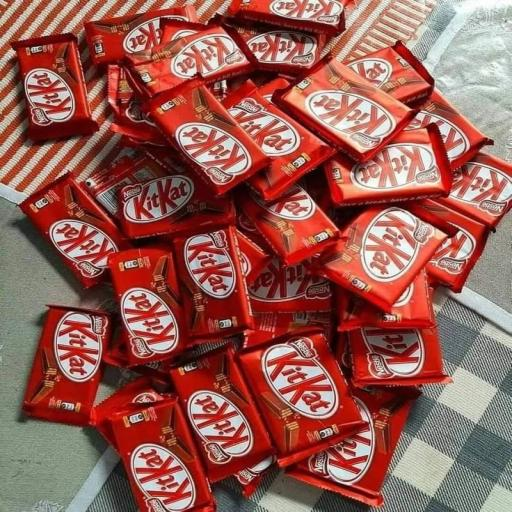kitkat: (0, 9, 113, 176)
